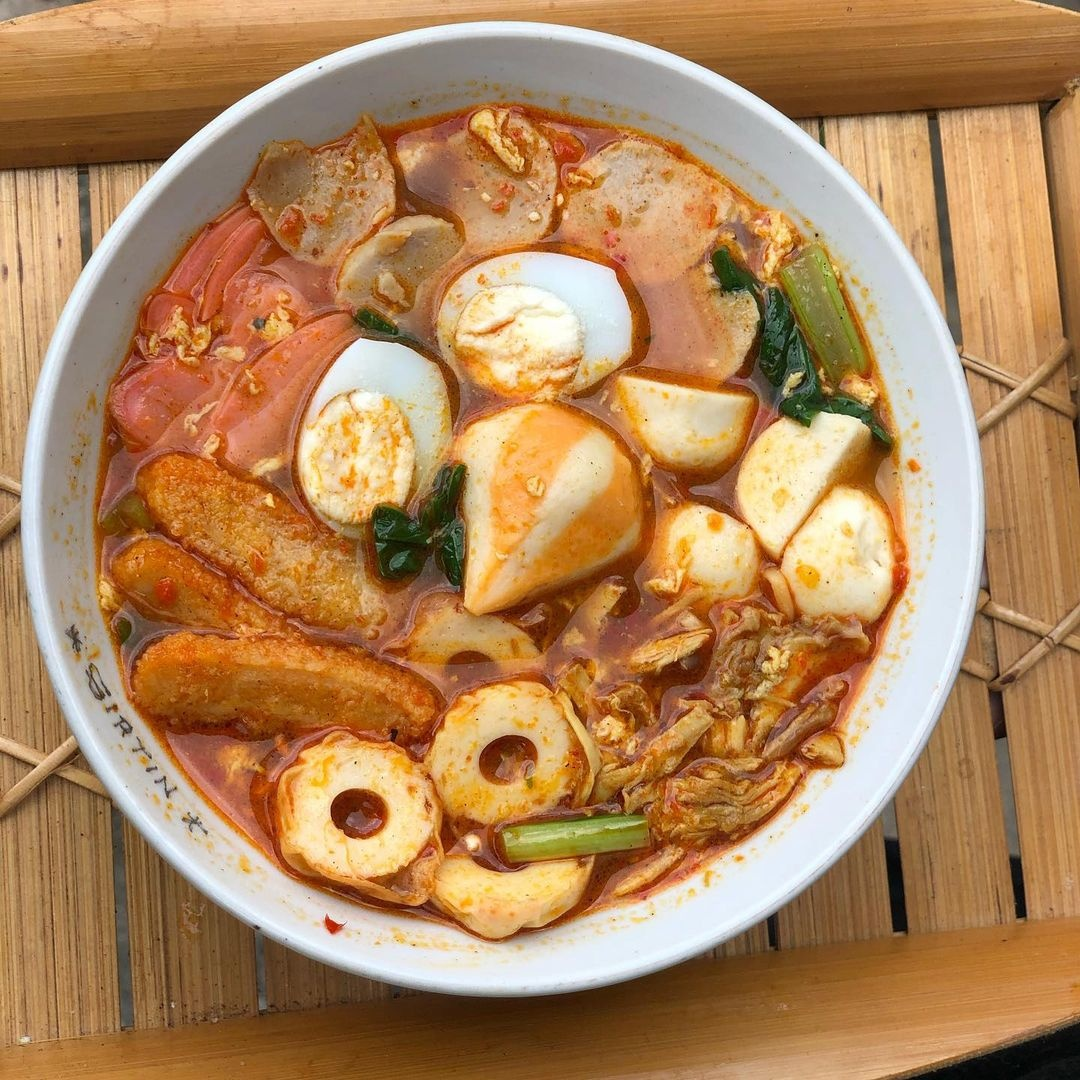seblak: (97, 105, 909, 940)
